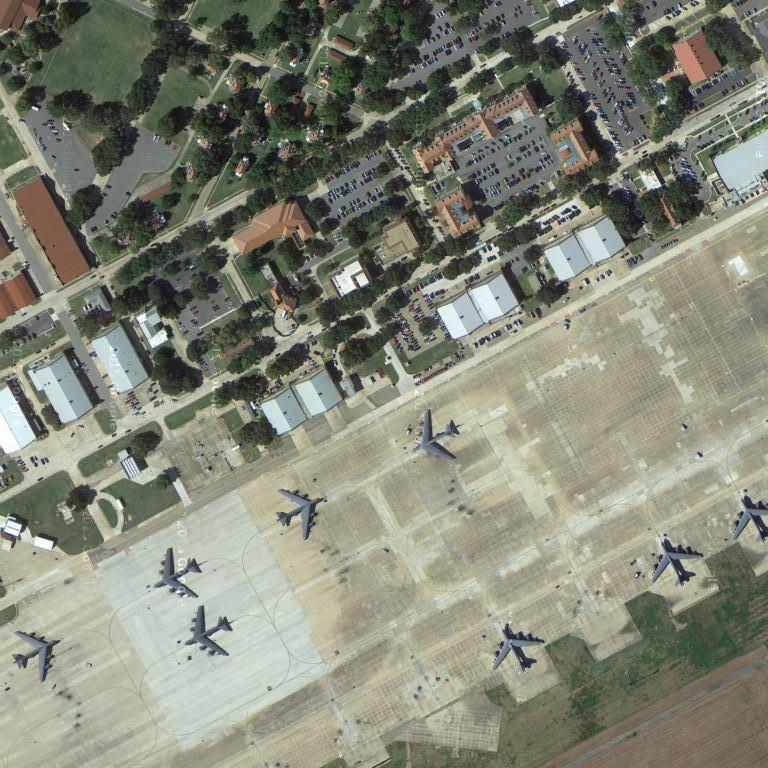B-52: (273, 483, 330, 541), (410, 407, 465, 464), (489, 625, 550, 676), (646, 534, 705, 586), (185, 603, 236, 662), (10, 629, 67, 681), (154, 546, 206, 602), (729, 491, 766, 547)
